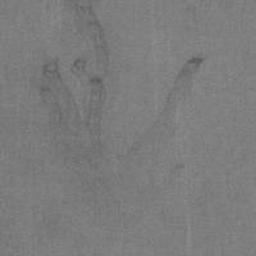Water spot: (38, 0, 205, 215), (165, 164, 186, 182)
